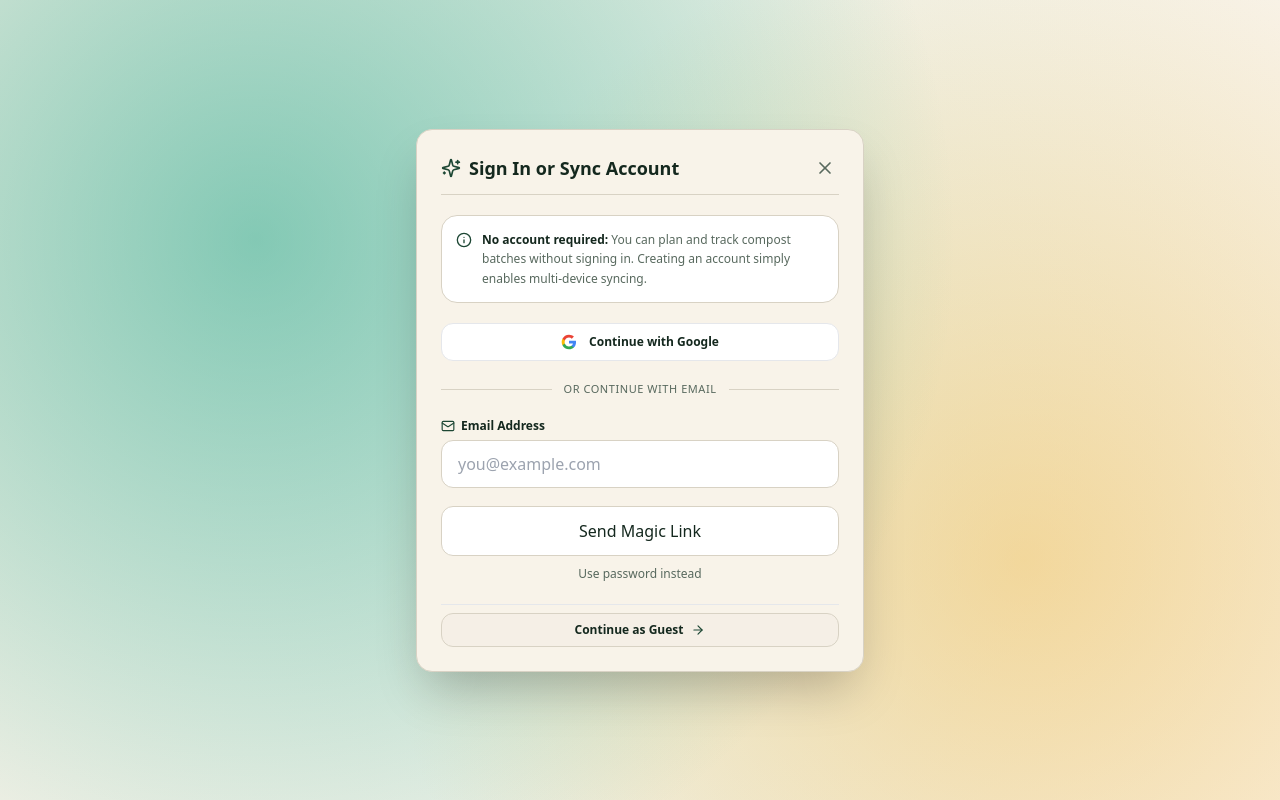
Test: Task 28: User Privacy, Auth & Data Deletion Flow › AuthModal › allows toggling between Magic Link and Password mode
Click the button "Use password instead".
click(640, 574)  # box left=441, top=564, right=839, bottom=584
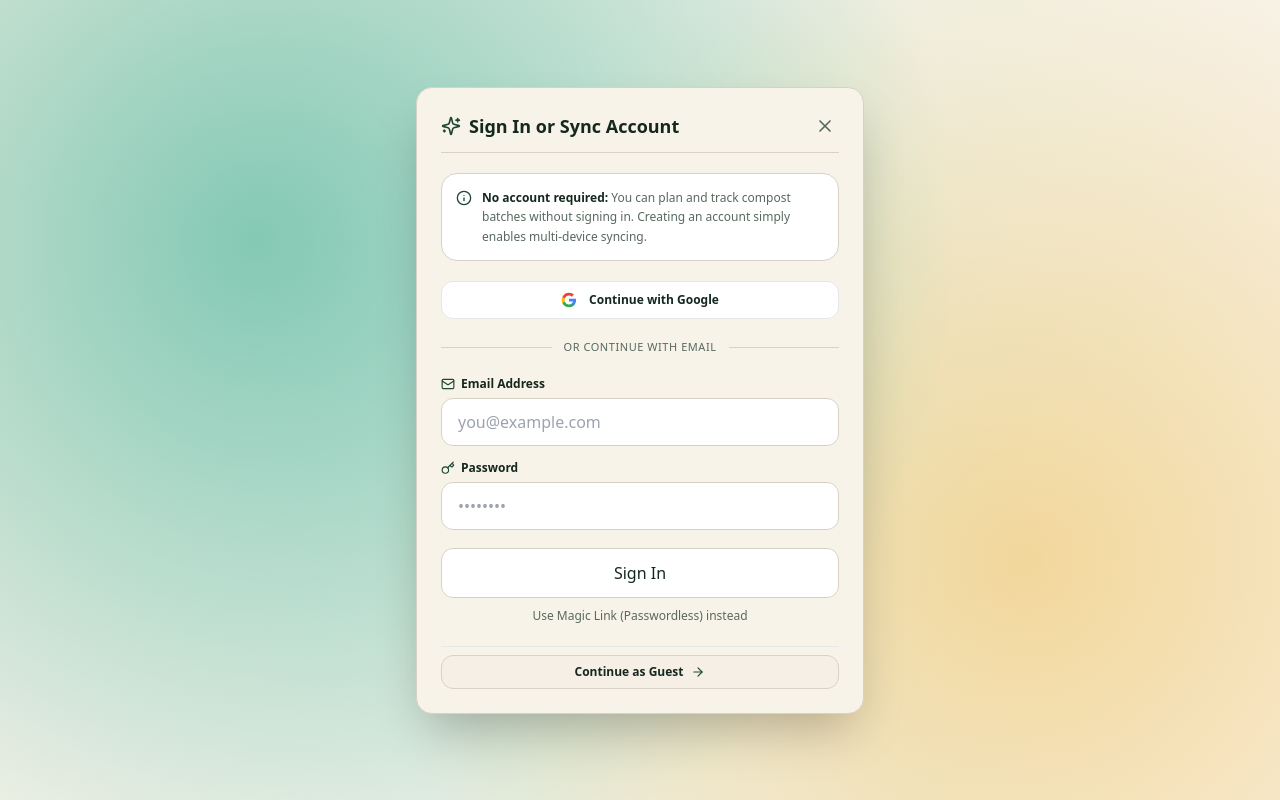
Expected: the password field labelled "Password" is shown, left=441, top=482, right=839, bottom=530
